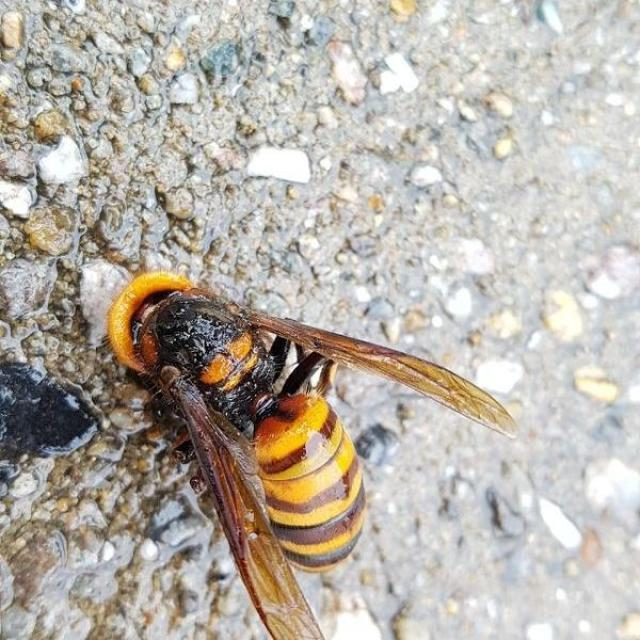Wasp: (102, 246, 522, 640)
